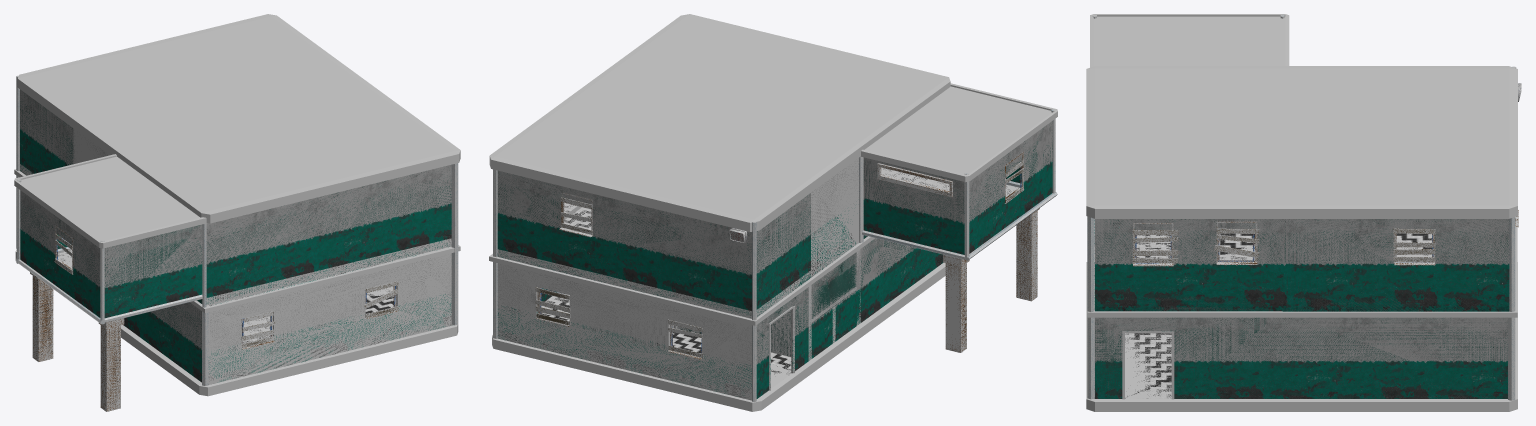
File: emptybuilding.fbx
The picture shows the model from 3 angles, left to right: view 1: azimuth 30°, elevation 25°; view 2: azimuth 150°, elevation 25°; view 3: azimuth 270°, elevation 25°; orthographic projection. The views are drawn at different scales.
Parts seen in each view (by area): view 1: Group1; view 2: Group1; view 3: Group1.
Boxes of the visible parts, left/top/right/bottom form: Group1: left=14, top=14, right=460, bottom=411; Group1: left=489, top=14, right=1057, bottom=411; Group1: left=1086, top=14, right=1521, bottom=411.
Size of the model in its own units: 534 by 256 by 493.
